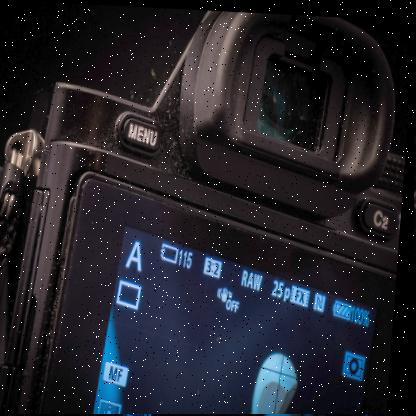Camera: (1, 1, 416, 416)
